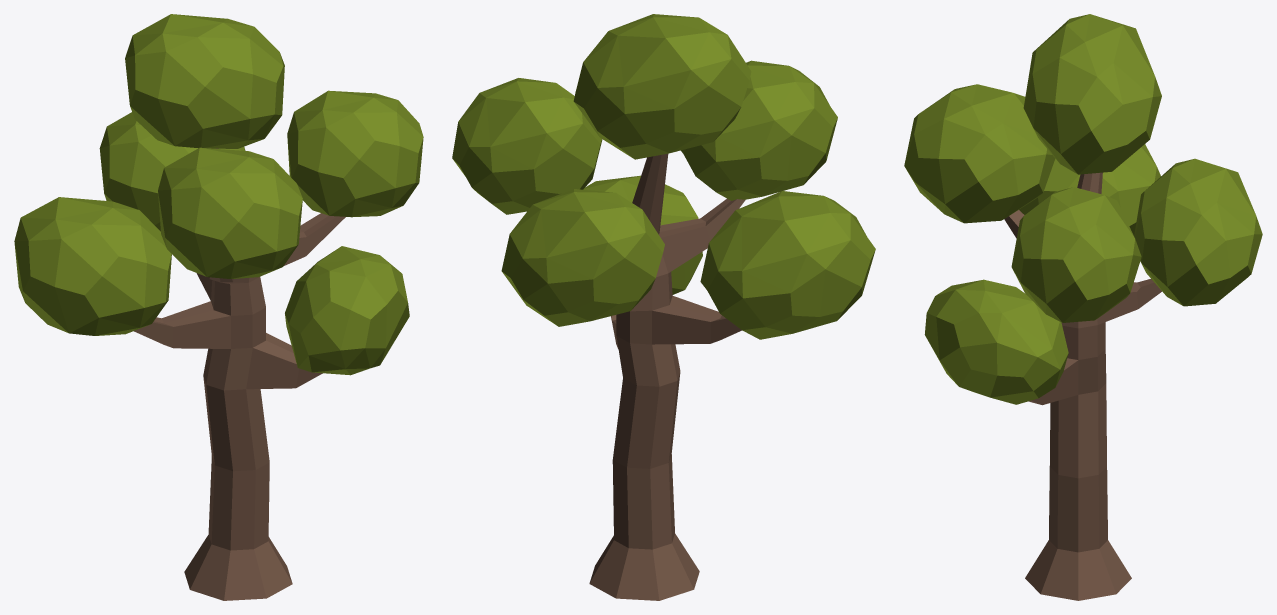
File: Tree_1.fbx
3 views of the same model, side by side, from view 1: azimuth 30°, elevation 25°; view 2: azimuth 150°, elevation 25°; view 3: azimuth 270°, elevation 25° (orthographic). The views are drawn at different scales.
Parts seen in each view (by area): view 1: leaf, stem; view 2: leaf, stem; view 3: leaf, stem.
Part boxes in pixels (x1=…): leaf: x1=14, y1=14, x2=423, y2=375; stem: x1=134, y1=148, x2=345, y2=600; leaf: x1=452, y1=14, x2=875, y2=339; stem: x1=589, y1=153, x2=745, y2=600; leaf: x1=904, y1=14, x2=1262, y2=404; stem: x1=1004, y1=172, x2=1161, y2=600.
Size of the model in its own units: 307 by 412 by 252.
